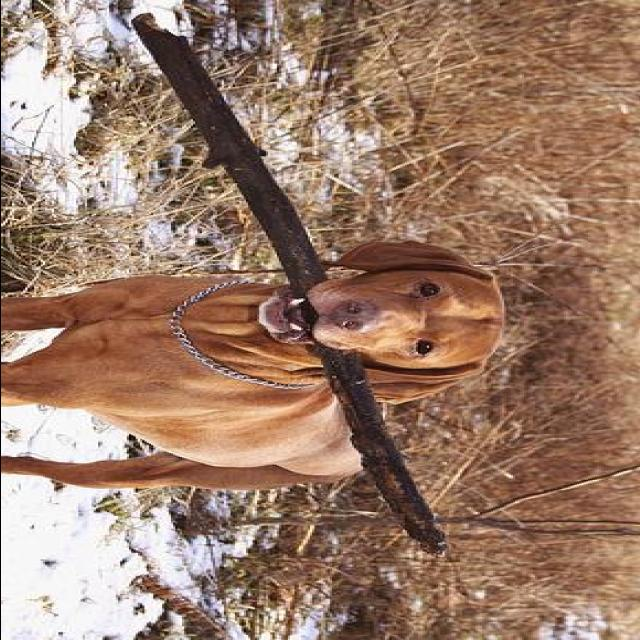vizsla: (2, 239, 508, 492)
